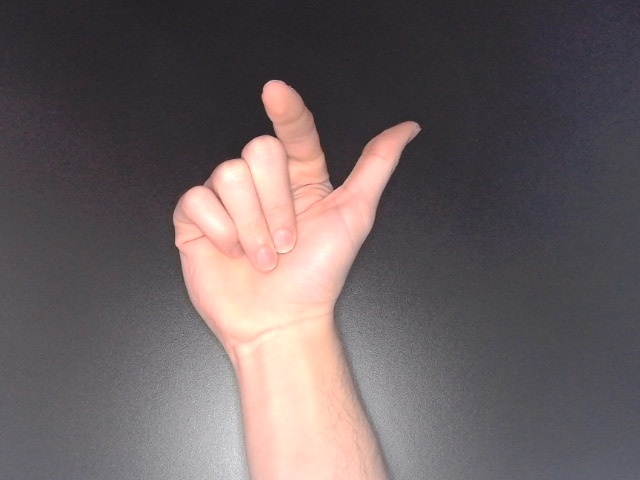t: (168, 76, 426, 353)
